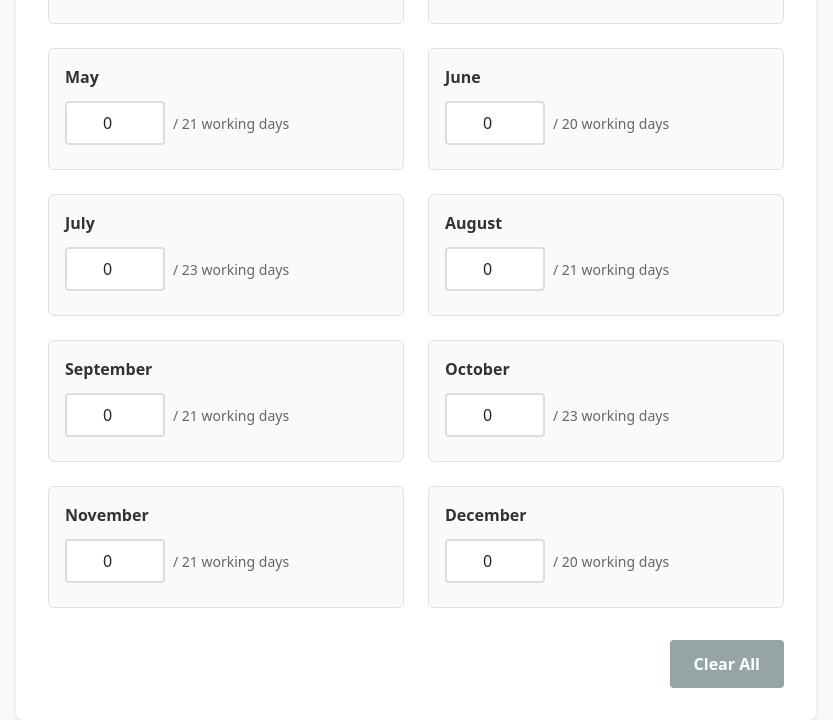
Test: AnnualLeaveInput › Clear All Functionality › shows success message after clearing all leave
(page scrolled)
Click the button "Clear All". click: (727, 664)
box: [670, 640, 784, 688]
(page scrolled)
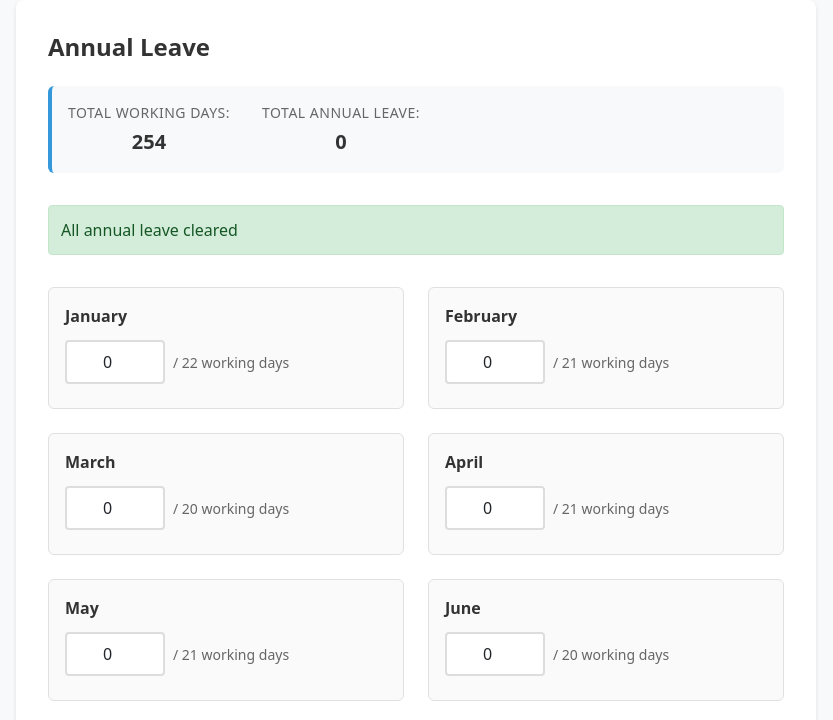
Now the text "All annual leave cleared" is shown, box [48, 205, 784, 255]
